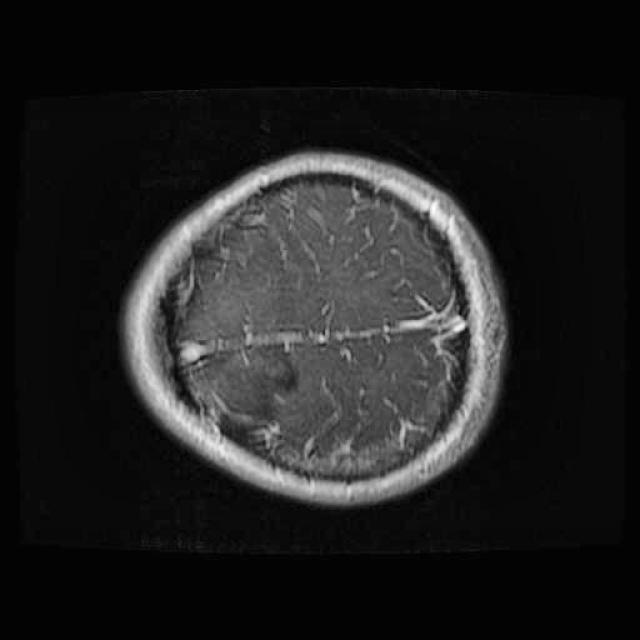Tumor: (188, 324, 313, 447)
